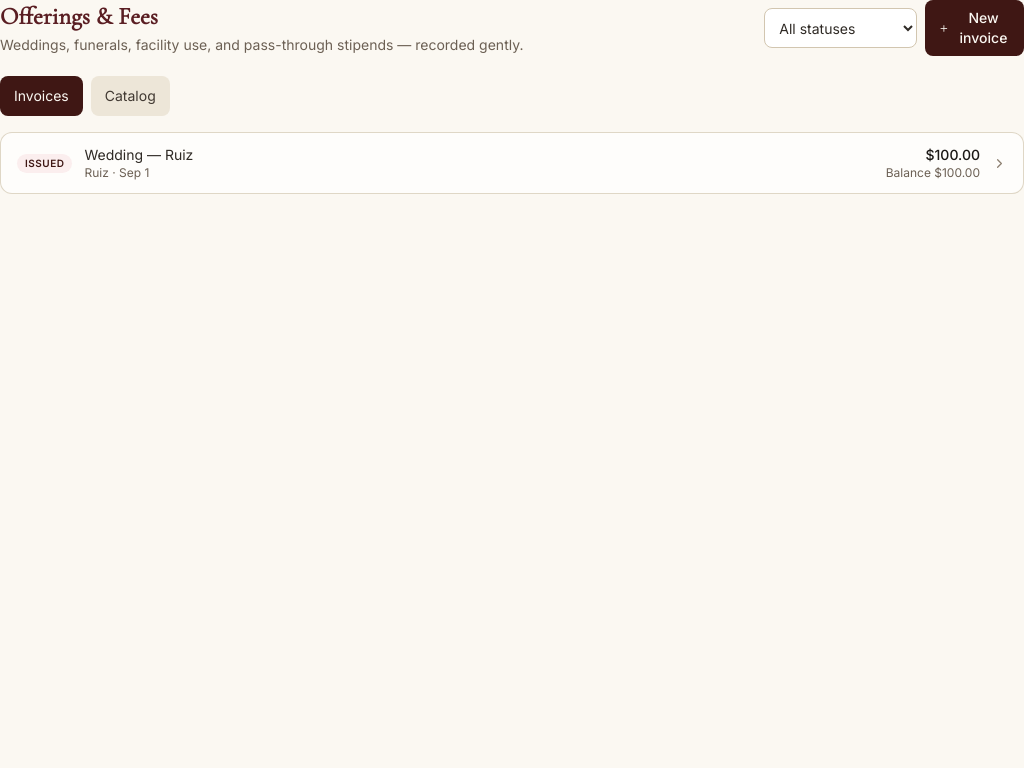
Test case: invoices when a save did not land › keeps a payment amount when the response is not a recorded payment
Click the button "Issued Wedding — Ruiz Ruiz · Sep 1 $100.00 Balance $100.00": (45, 163) [0, 132, 1023, 194]
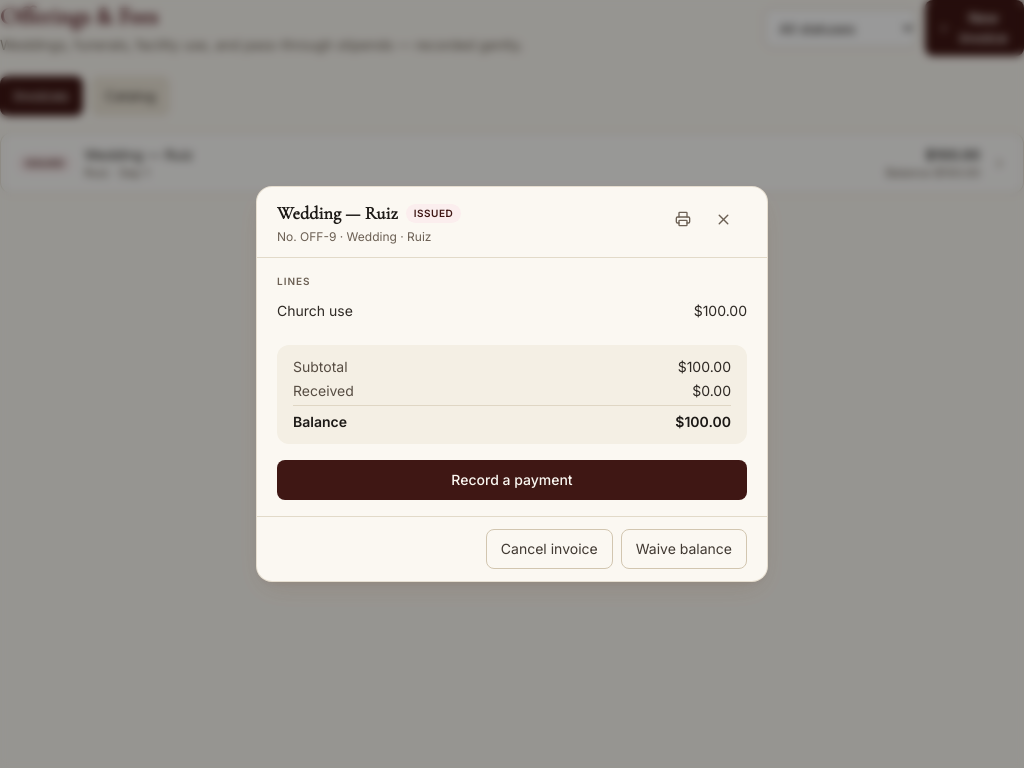
Click the button "Record a payment": (512, 480) [277, 460, 747, 500]
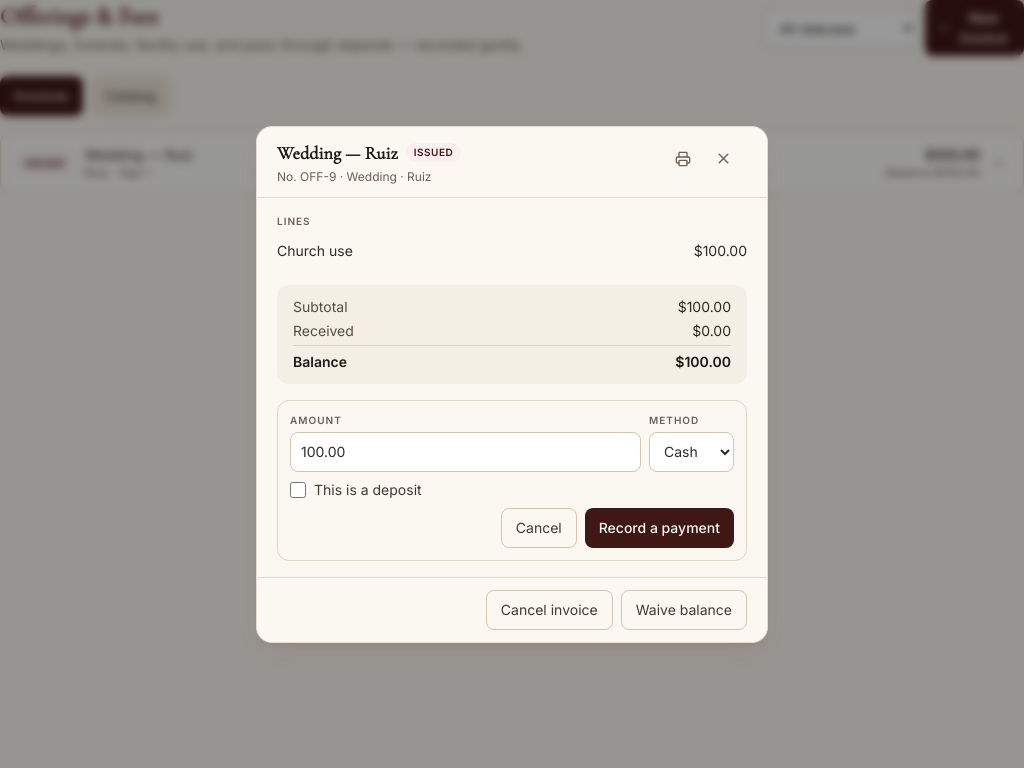
In the field labelled "Amount": (466, 452) [290, 432, 641, 472], type "25"
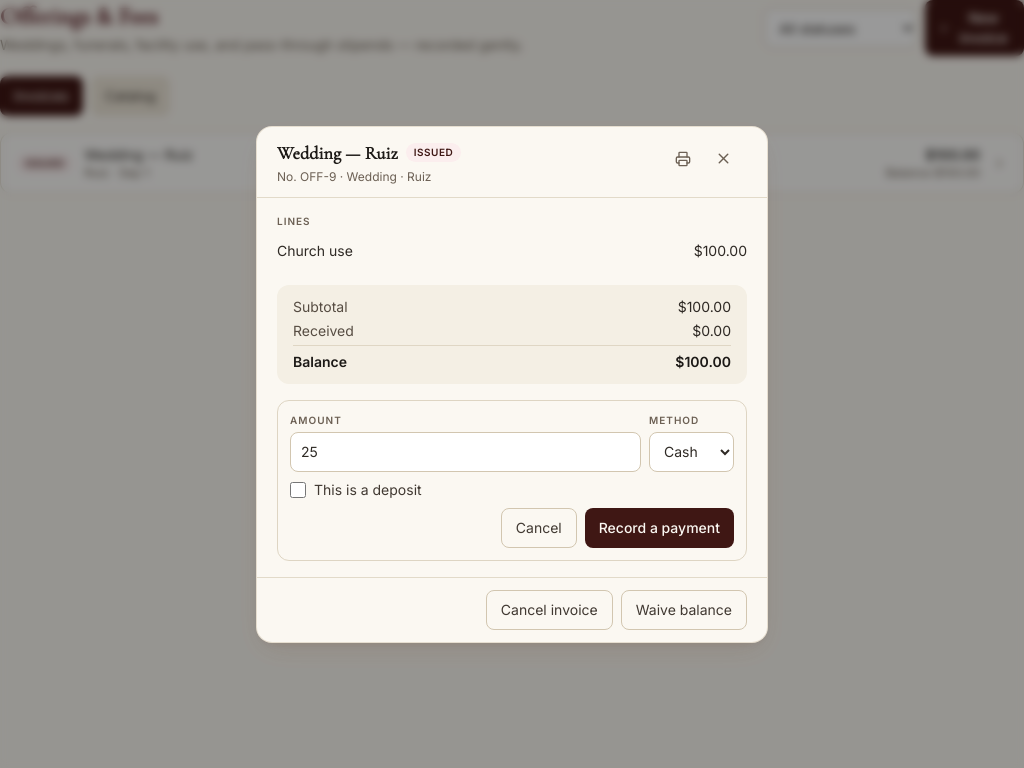
Click the button "Record a payment": (659, 528) [585, 508, 734, 548]
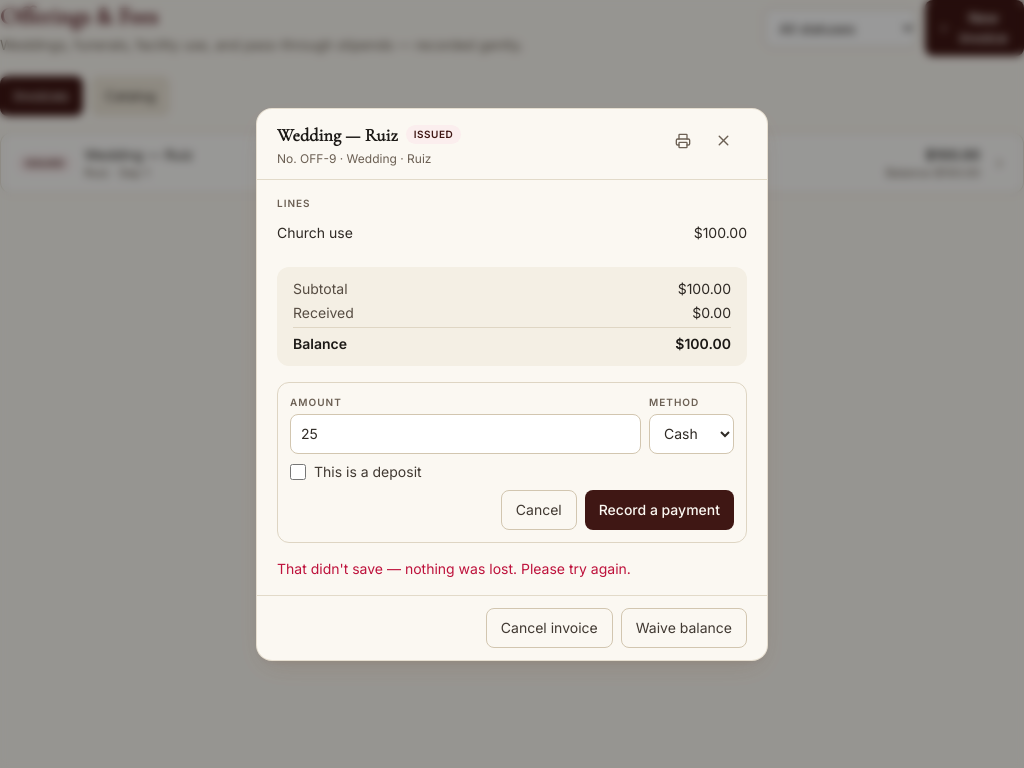
Now the text "That didn't save — nothing was lost. Please try again." is shown, box [277, 560, 631, 576]
